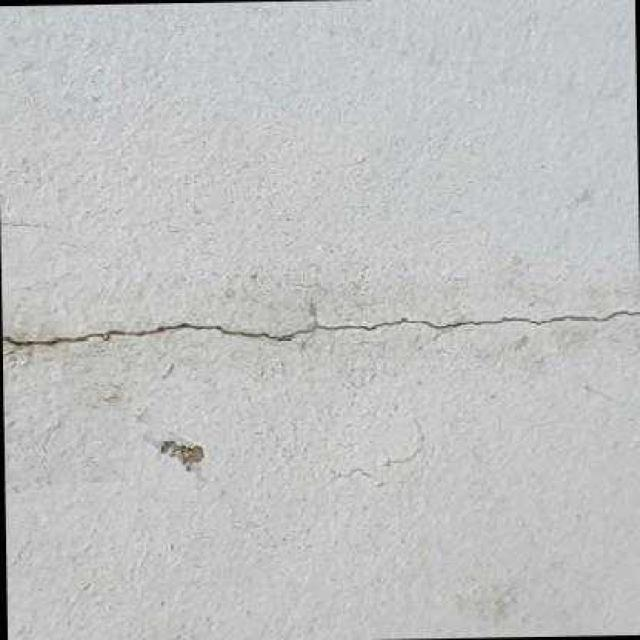D00: (0, 303, 640, 350)
